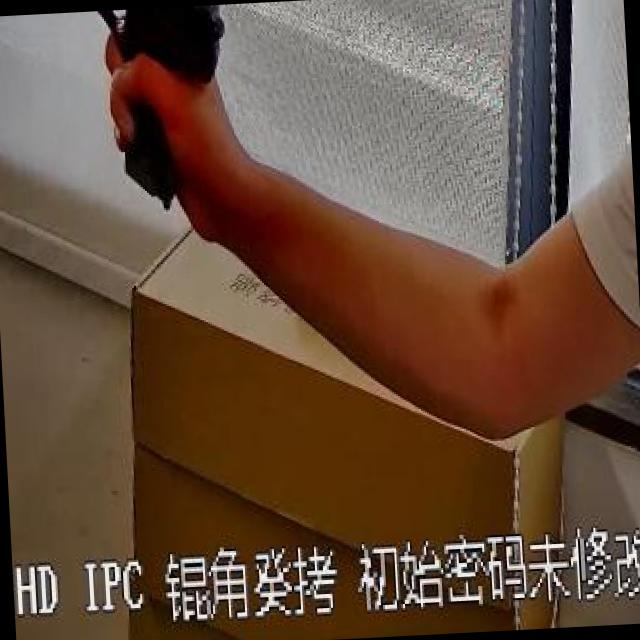Guns: (8, 2, 290, 214)
